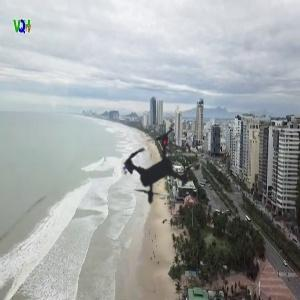drone: (83, 94, 241, 252)
